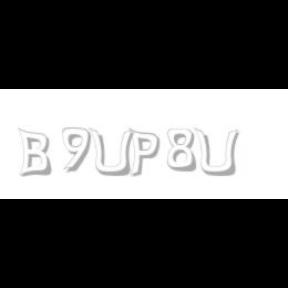8: (168, 128, 196, 172)
9: (62, 128, 90, 172)
B: (17, 128, 51, 178)
P: (128, 128, 160, 178)
U: (88, 128, 134, 178), (194, 128, 238, 178)
